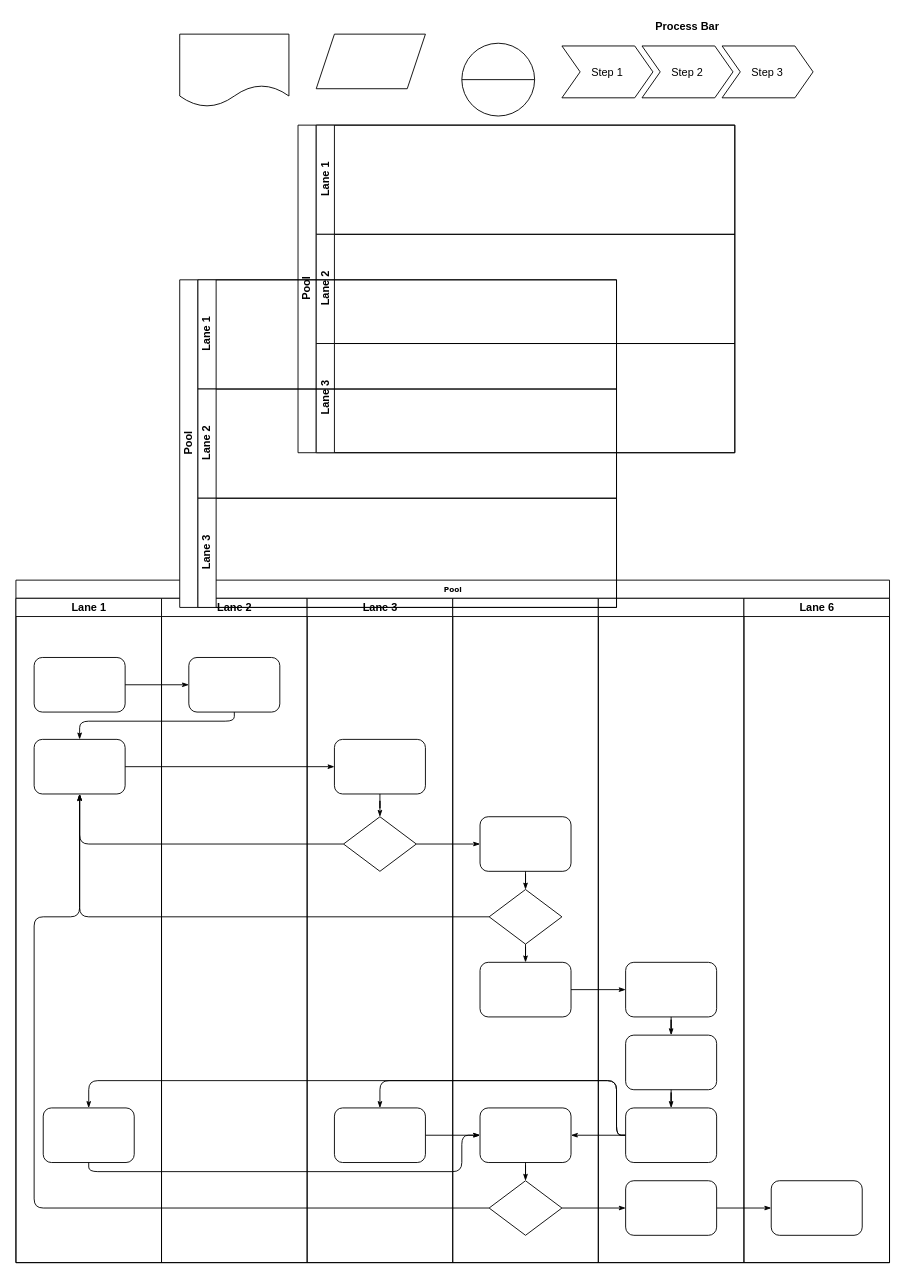
The diagram is 905 pixels wide and 1279 high, and some of its shapes have lost their labels. Here are the shapes that lost their labels. From the top down, the box of each, then its label:
(452, 597, 598, 1263): Lane 4
(597, 597, 744, 1263): Lane 5
